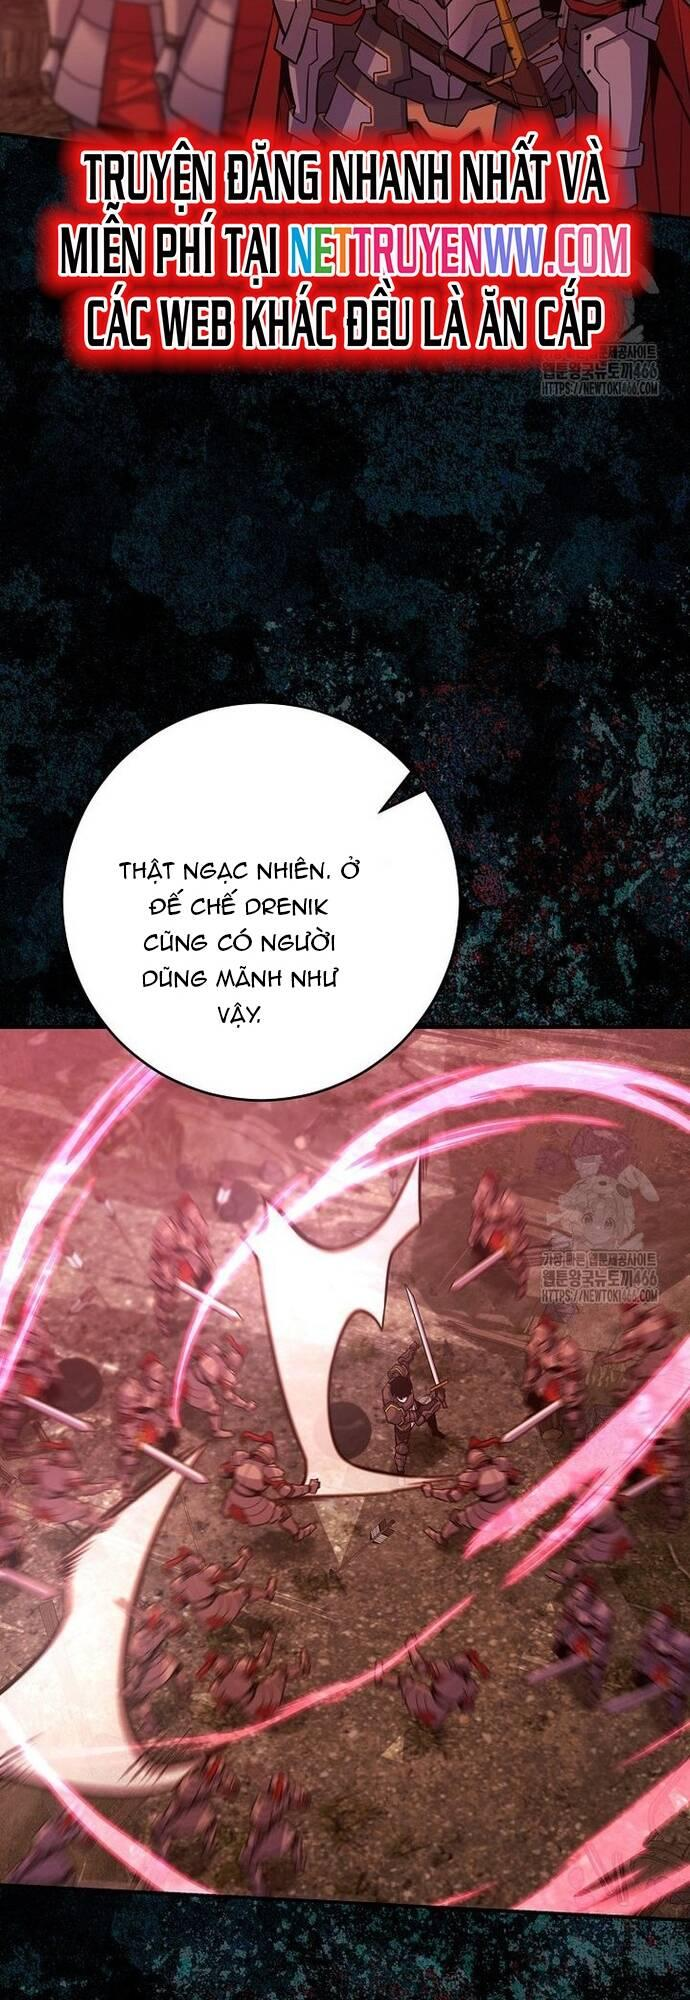quangcao: (47, 130, 640, 367)
